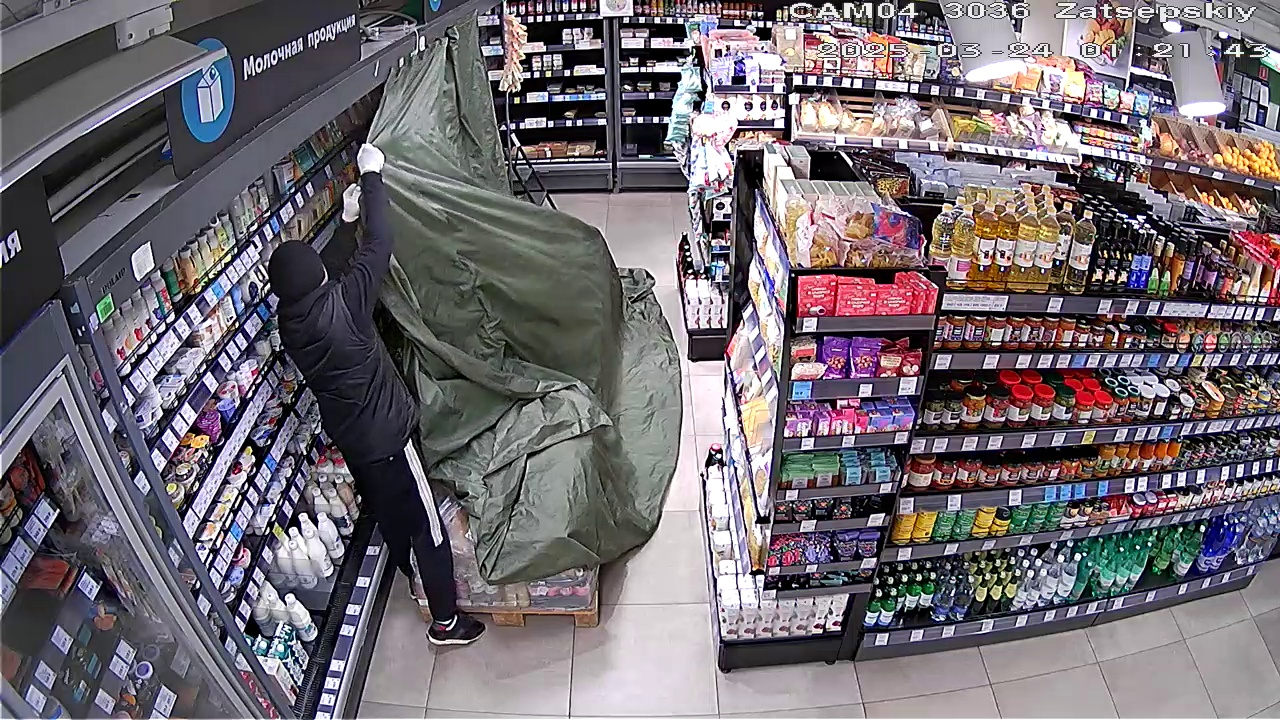Human: (268, 157, 487, 648)
dome: (385, 58, 685, 567)
